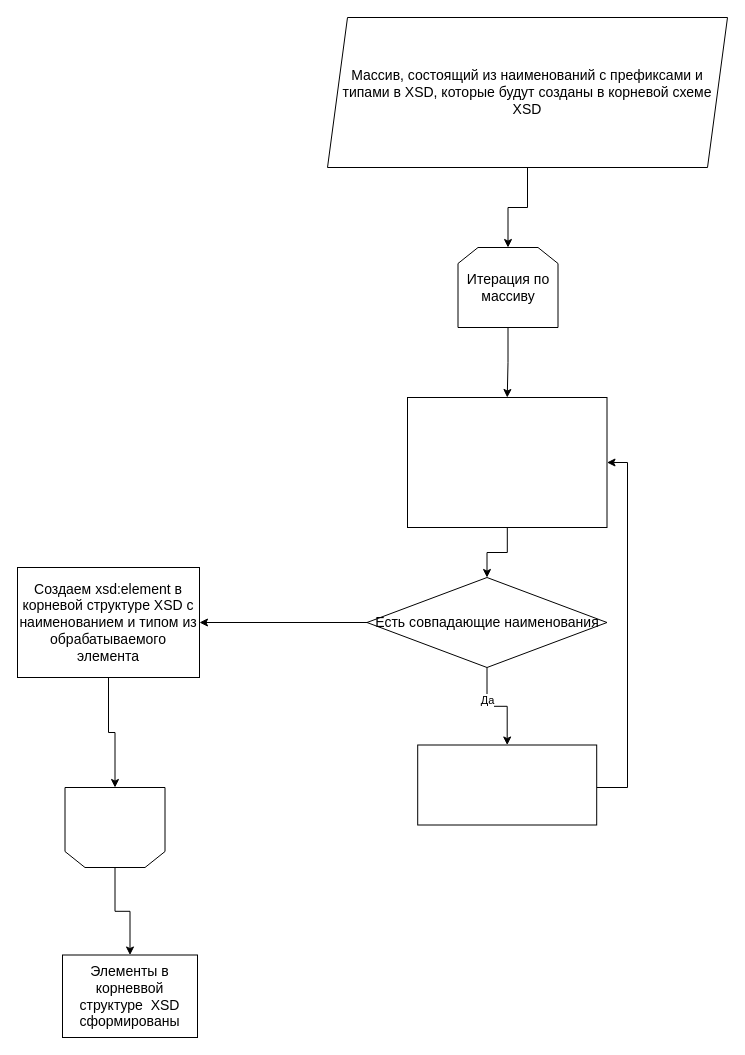
Some shapes in this 745 by 1055 pixel diagram are drawn without their labels. The centre of each missing label's shape, as x and y in pixels:
"Добавляем префикс к наименованию текущего элемента" goes at point (507, 784).
"Завершение итерации массива" goes at point (114, 827).
"Поиск совпадающих наименований элементов для текущего наименования элемента" goes at point (506, 462).
